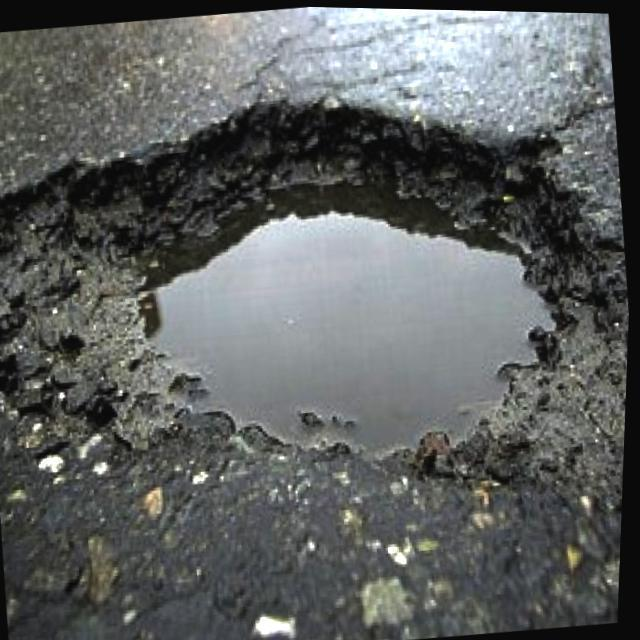Pothole: (0, 87, 622, 526)
